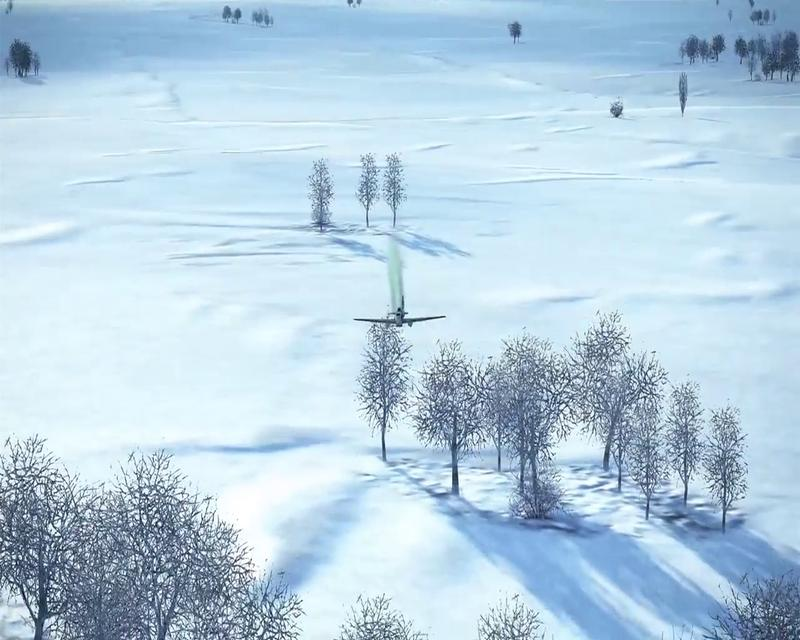UAV: (355, 294, 447, 330)
